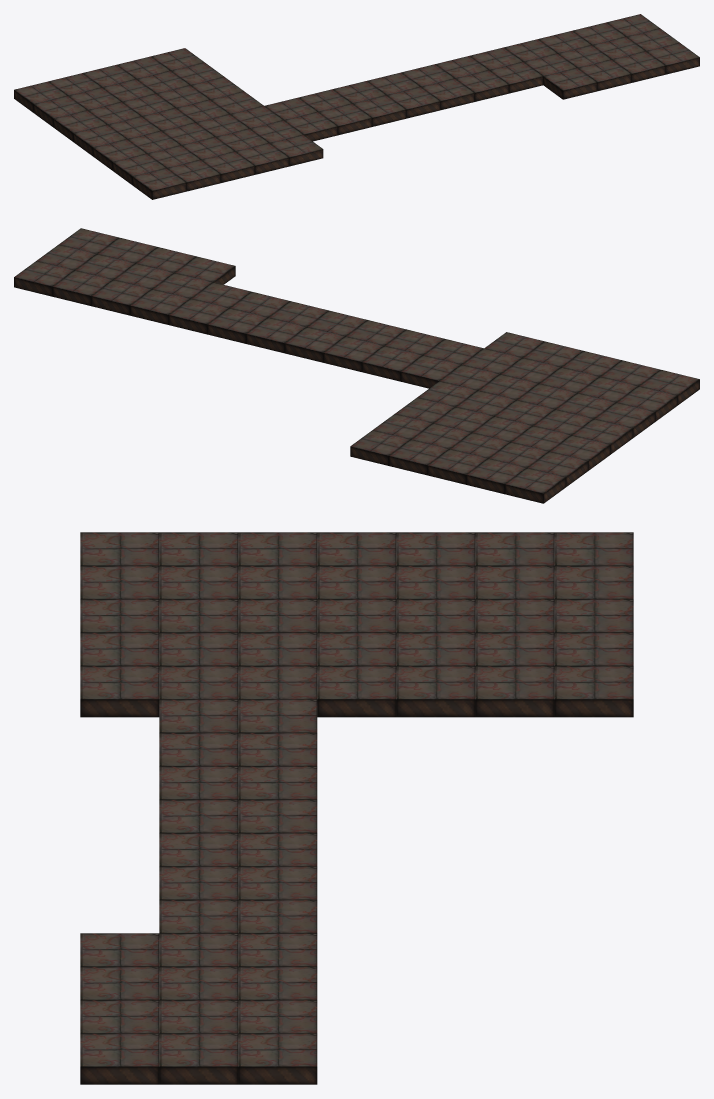
File: TermProject_Tut_roof.fbx
The picture shows the model from 3 angles, top to bottom: view 1: azimuth 30°, elevation 25°; view 2: azimuth 150°, elevation 25°; view 3: azimuth 270°, elevation 25°; orthographic projection. The views are drawn at different scales.
Visible parts, largest first — view 1: Floor.663; view 2: Floor.663; view 3: Floor.663.
Part boxes in pixels (x1=…): Floor.663: x1=14, y1=14, x2=699, y2=199; Floor.663: x1=14, y1=228, x2=699, y2=503; Floor.663: x1=80, y1=532, x2=633, y2=1084.
Size of the model in its own units: 6400 by 100 by 2800.
